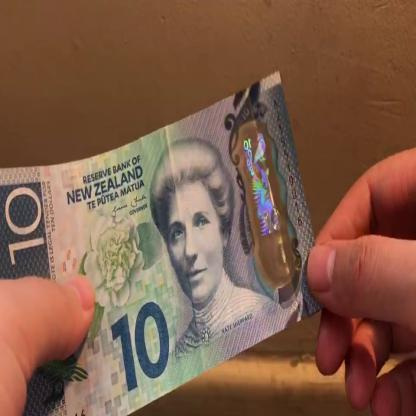10B: (240, 131, 286, 272)
